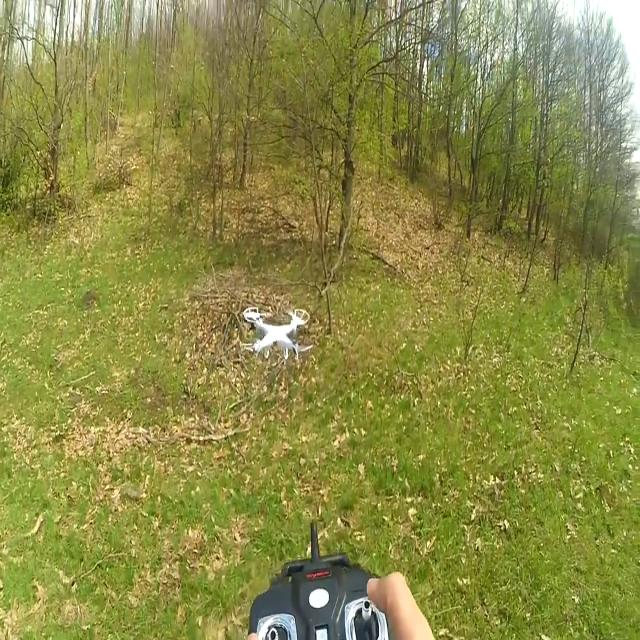drones: (234, 298, 316, 370)
